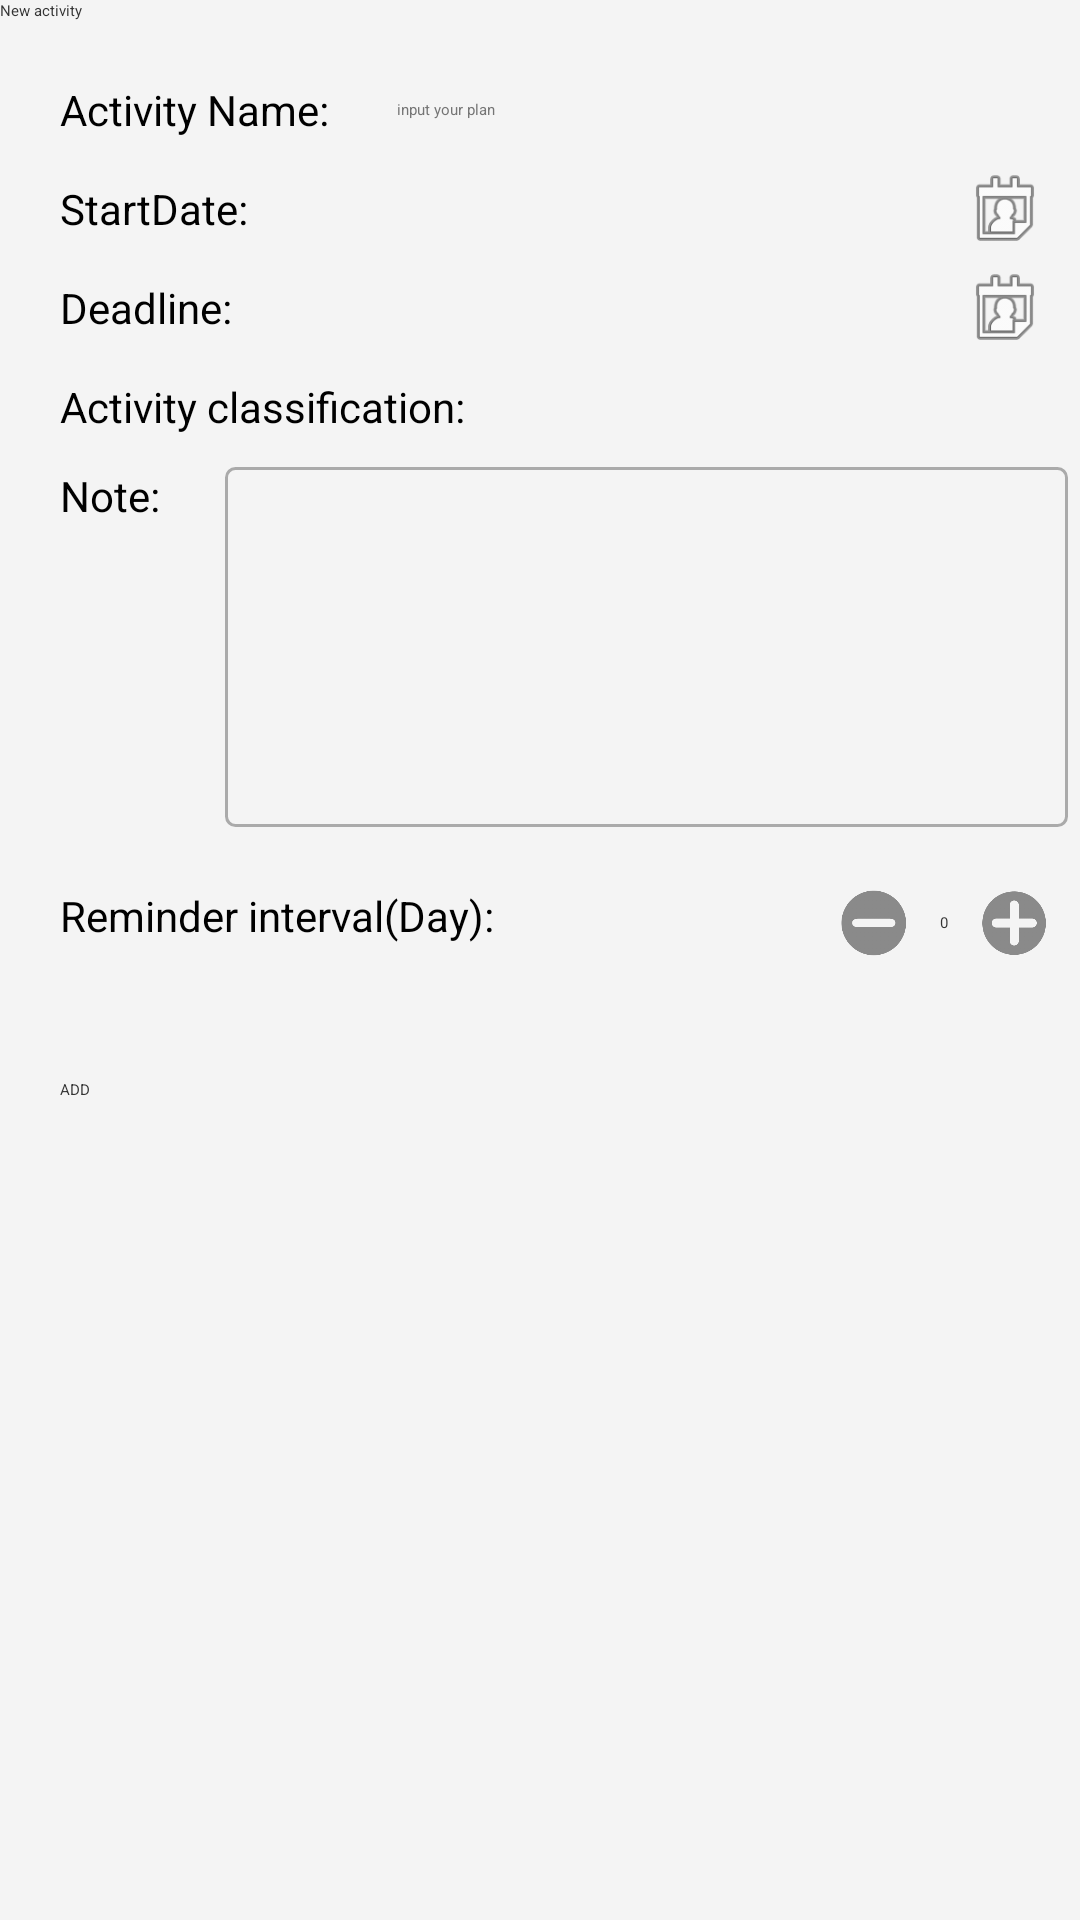

Where icons sit on this 1080x1920 app screen, as (x1, y1, x2, y2):
calendar: (976, 175, 1034, 241), (976, 274, 1034, 340)
jia: (982, 891, 1046, 955)
jian: (841, 891, 906, 955)
